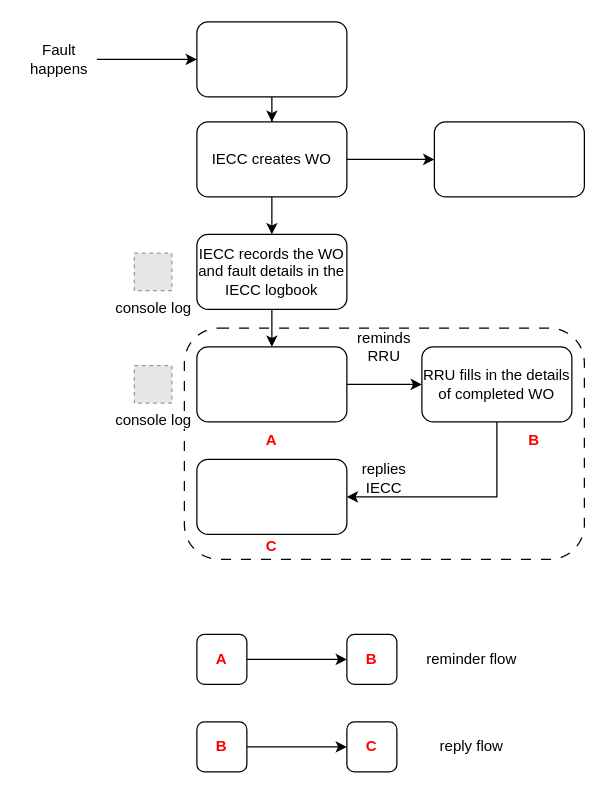
Image size: 606x794. Some labels were removed from this diagram. Grey dashed boxes stand in for pictures. The box of each missing label's shape, as (x1, y1, x2, y2) in pixels:
IECC checks console log and issue reminder to RRU to close the WO: (196, 346, 347, 422)
IECC closes the WO in EAMS: (196, 458, 347, 534)
IECC reports fault to RRU: (196, 21, 347, 97)
RRU fixes fault: (433, 121, 584, 197)
